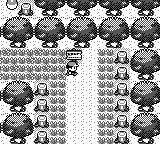captura: (0, 48, 67, 143), (98, 50, 114, 143)
leer: (66, 50, 82, 61)
main: (66, 62, 79, 75)
no-caminable: (0, 0, 159, 143), (0, 81, 33, 143), (114, 50, 130, 143), (34, 83, 49, 143), (19, 3, 33, 16)
poke-ball: (6, 0, 18, 10)
